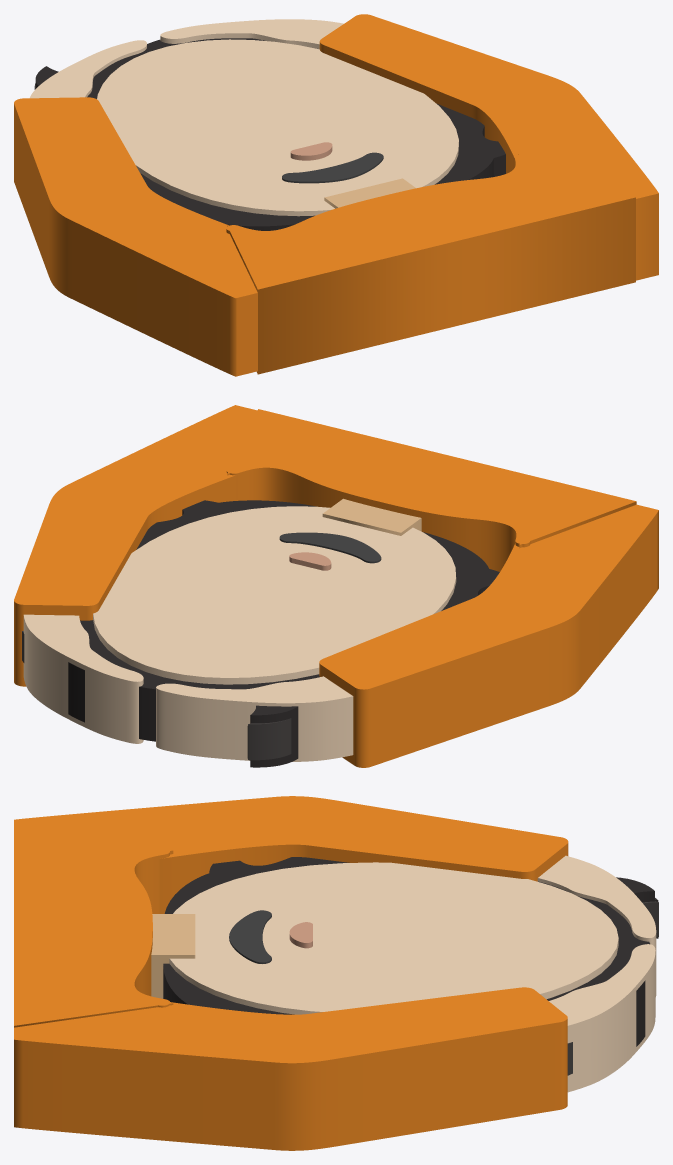
File: emoji_u1f646_1f3fb.glb
The picture shows the model from 3 angles, top to bottom: view 1: azimuth 30°, elevation 25°; view 2: azimuth 150°, elevation 25°; view 3: azimuth 270°, elevation 25°; orthographic projection. The views are drawn at different scales.
Visible parts, largest first — view 1: emoji_u1f646_1f3fb; view 2: emoji_u1f646_1f3fb; view 3: emoji_u1f646_1f3fb.
Boxes of the visible parts, x1,y1,x2,y2 form: emoji_u1f646_1f3fb: [14, 14, 658, 376]; emoji_u1f646_1f3fb: [14, 405, 658, 767]; emoji_u1f646_1f3fb: [14, 796, 658, 1150].
Size of the model in its own units: 0.0329 by 0.0052 by 0.0333.
